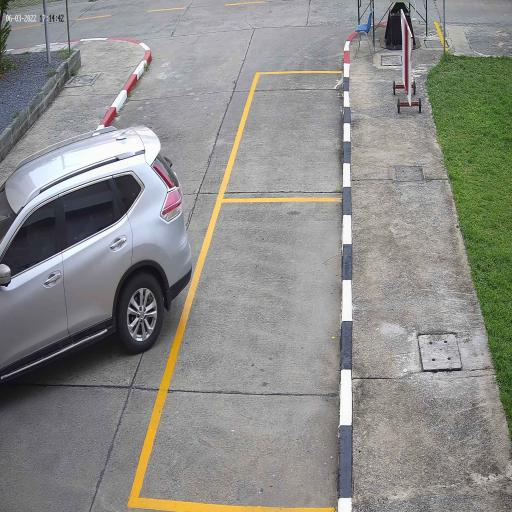car: (0, 123, 193, 386)
